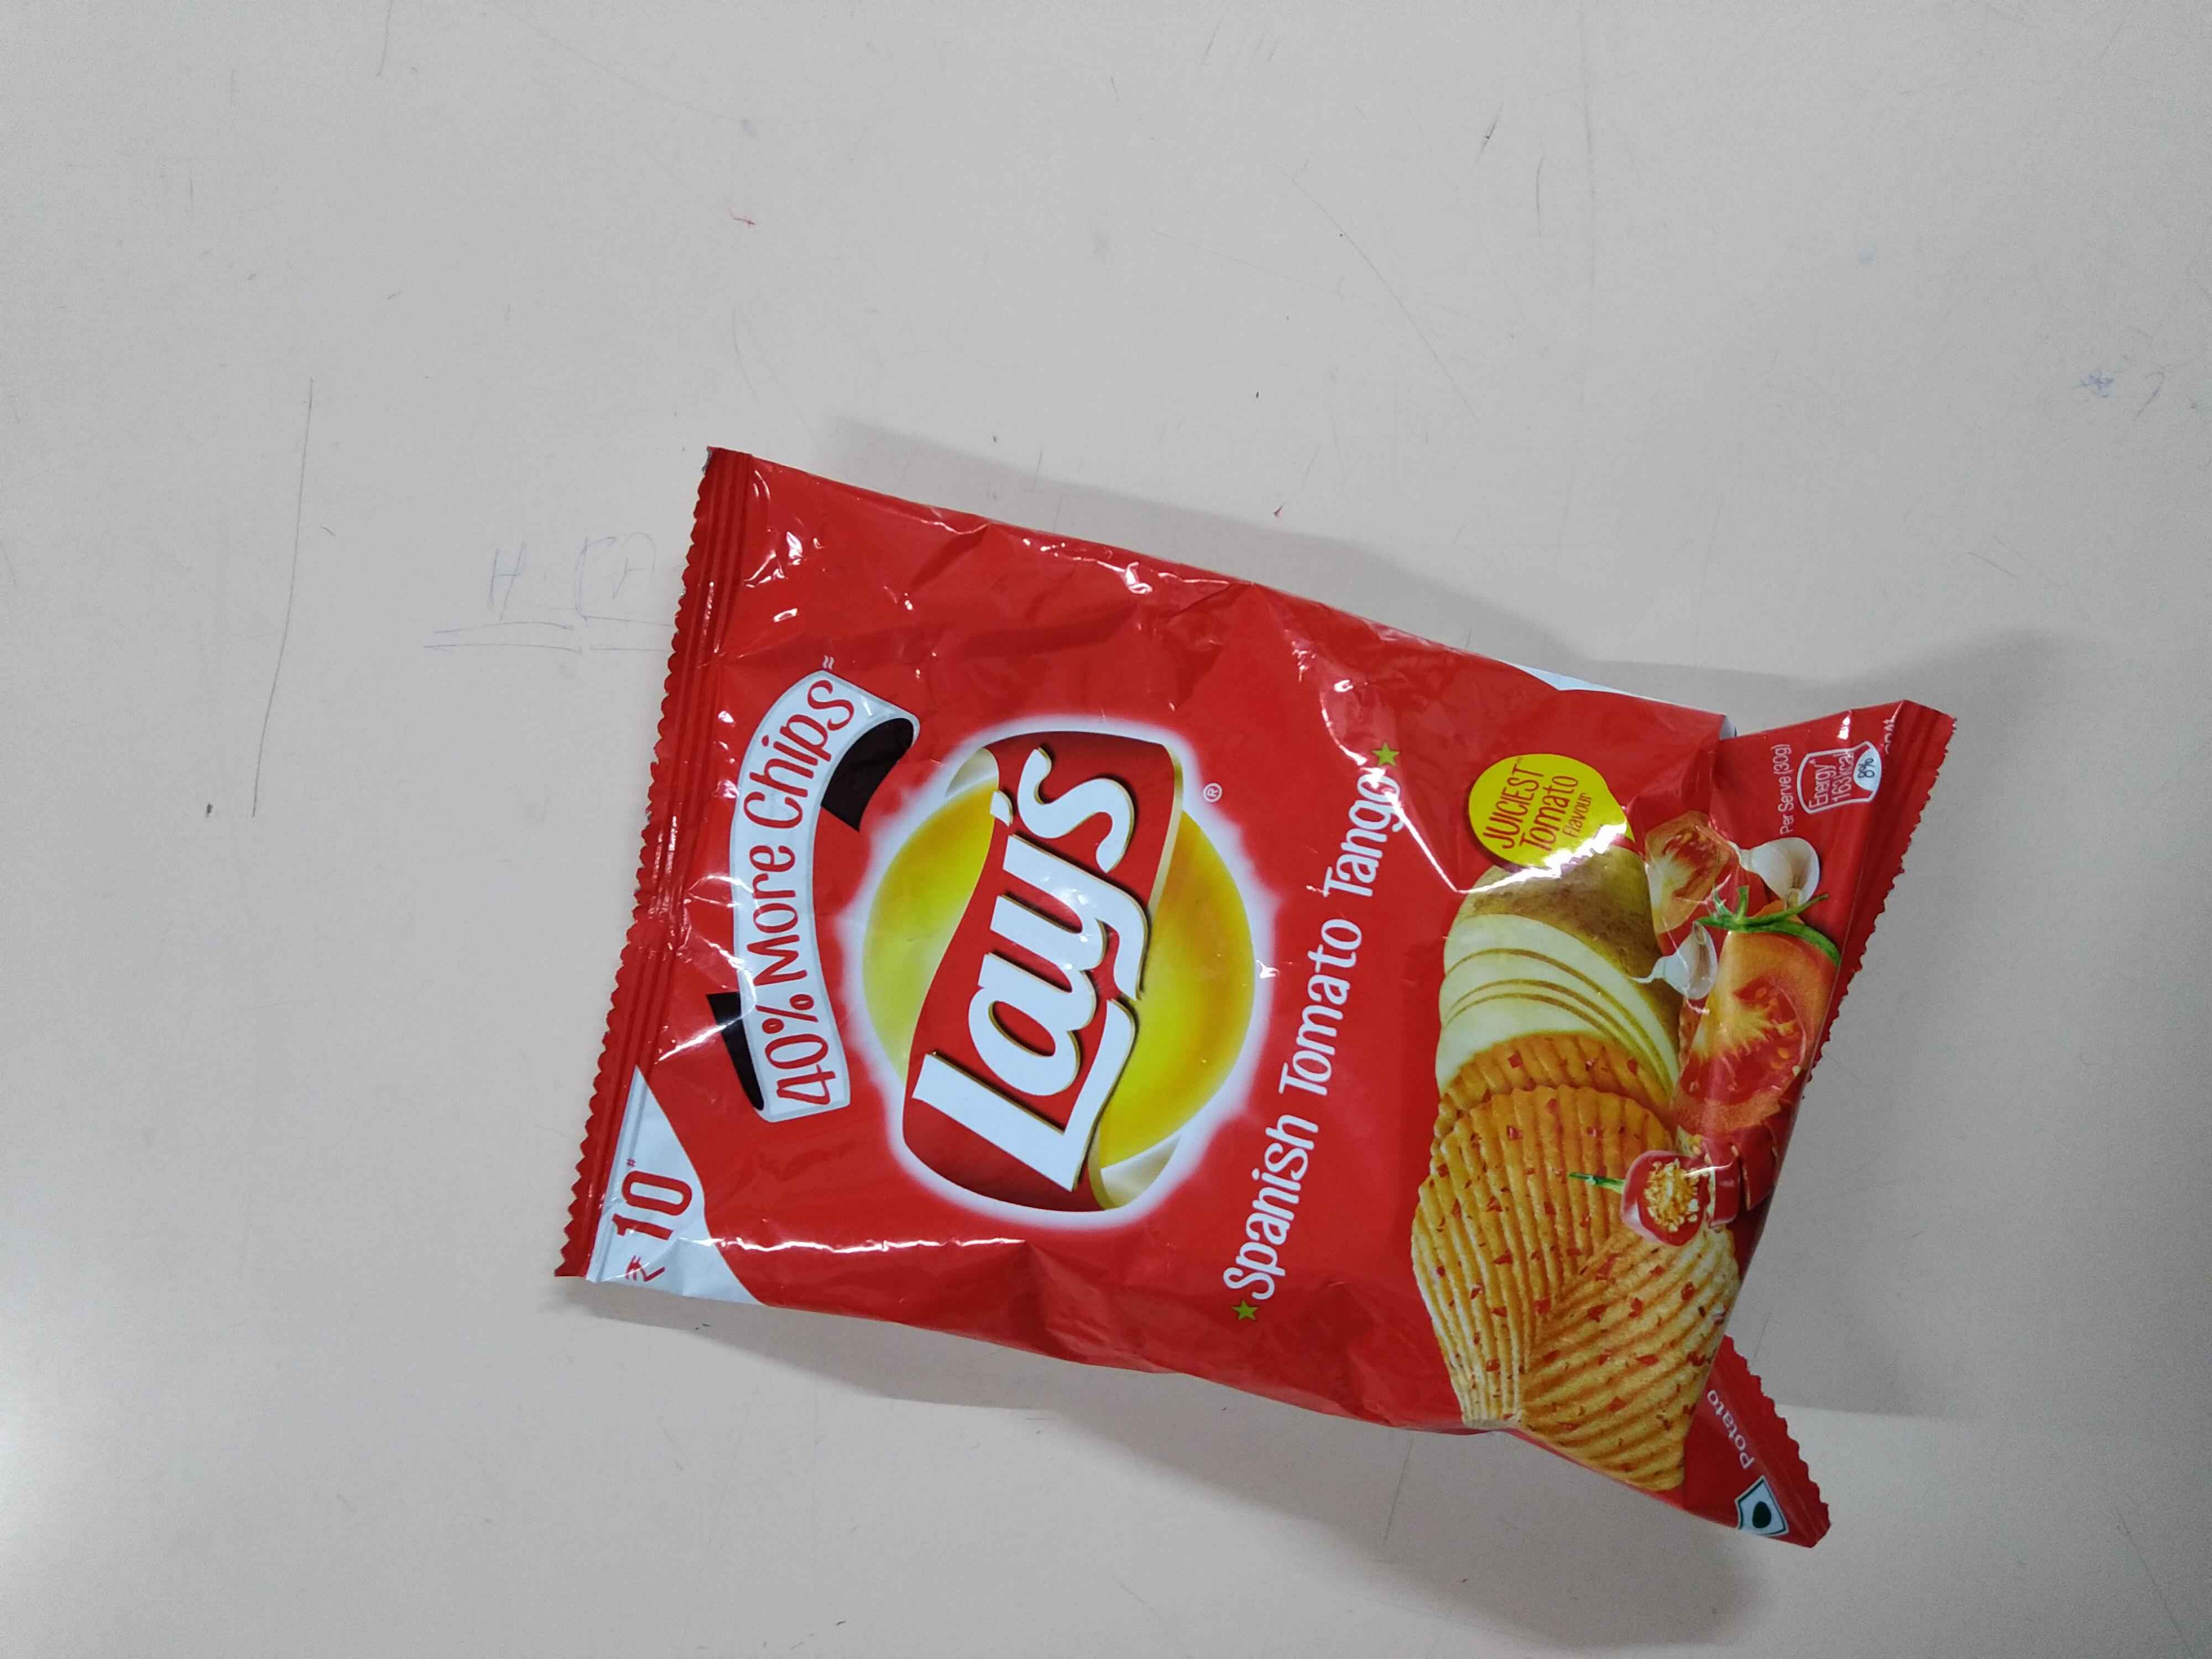Lays: (850, 714, 1284, 1209)
